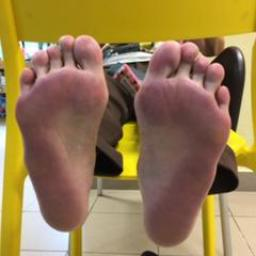Plantar View -Both Feet-: (6, 15, 244, 252)
